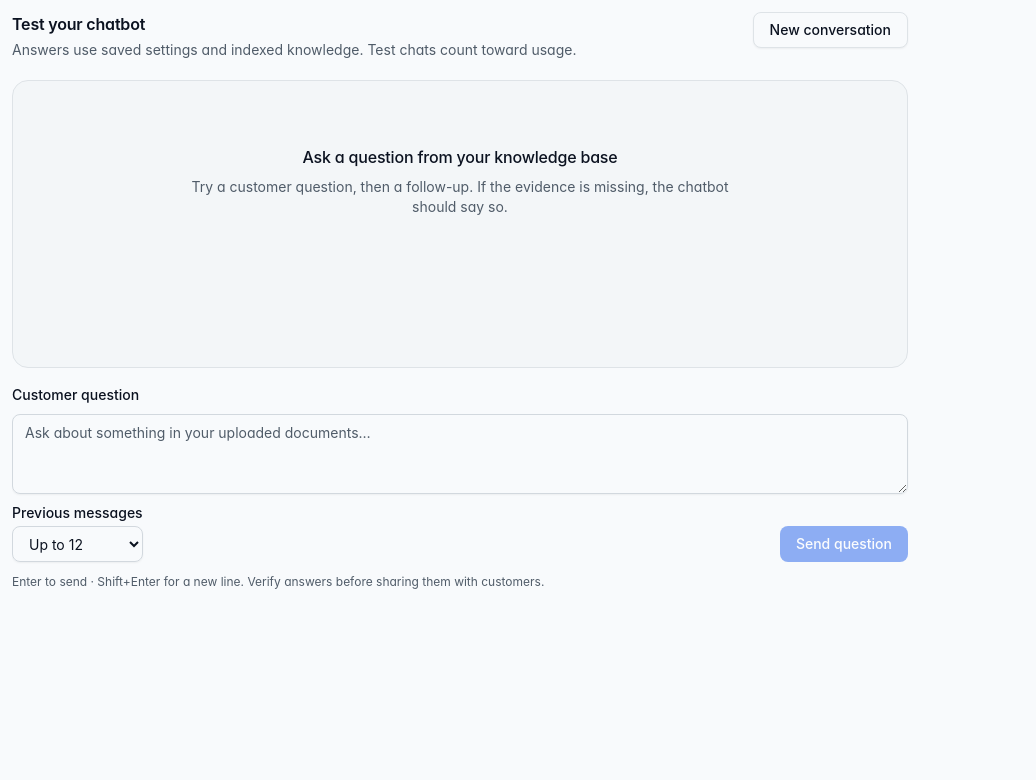
Test: sends a question, displays citations and usage, and saves feedback
In the text box labelled "Customer question": (460, 454) [12,414,908,494], type "Returns policy?"
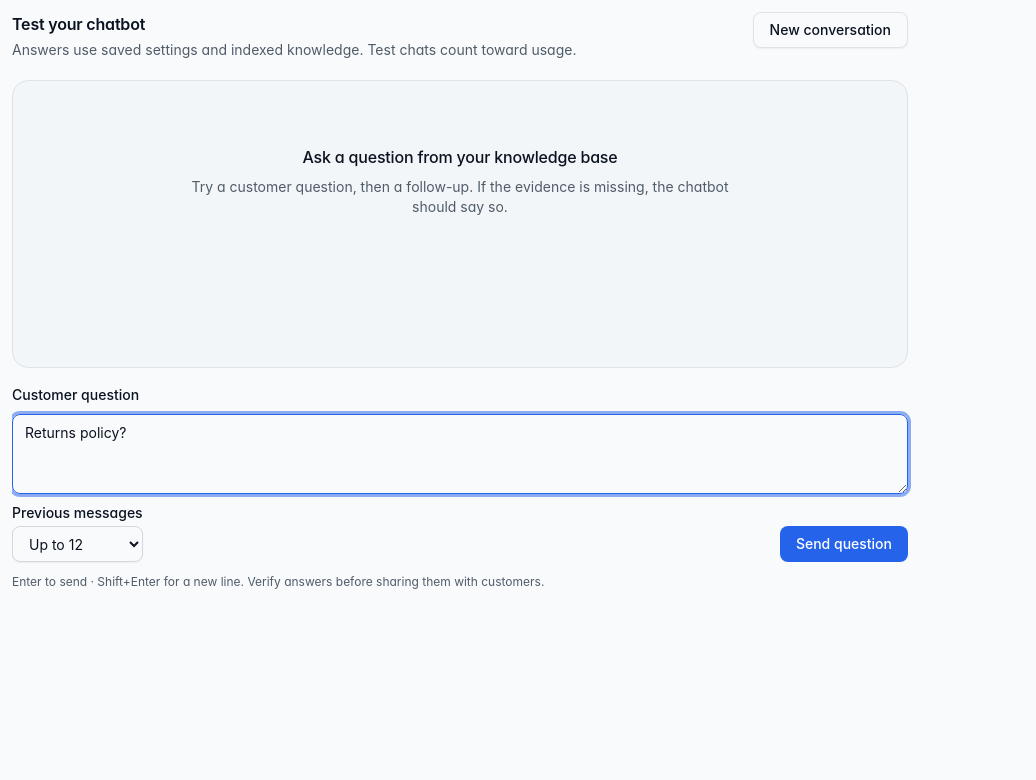
Click the button "Send question": (844, 544) [780,526,908,562]
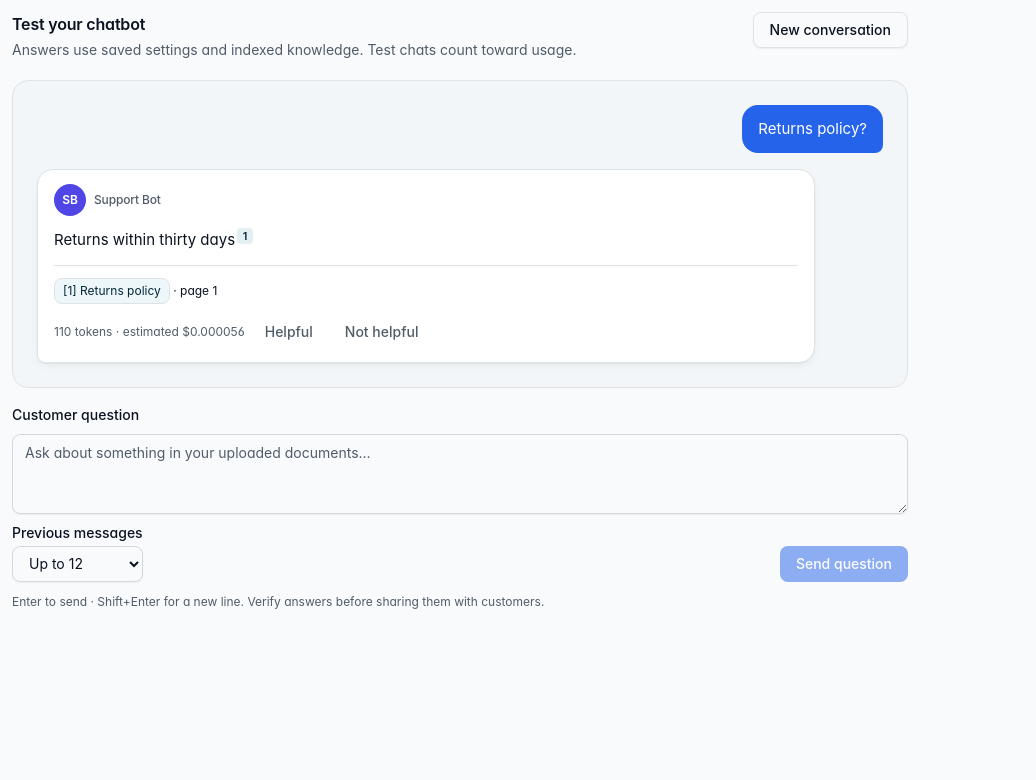
Check: the text "Returns within thirty days 1" is shown, box [54,228,253,249]
Check: the text "110 tokens · estimated $0.000056" is shown, box [54,324,245,340]
Click the button with aria-label "Mark answer helpful": (289, 332) [253,316,325,348]
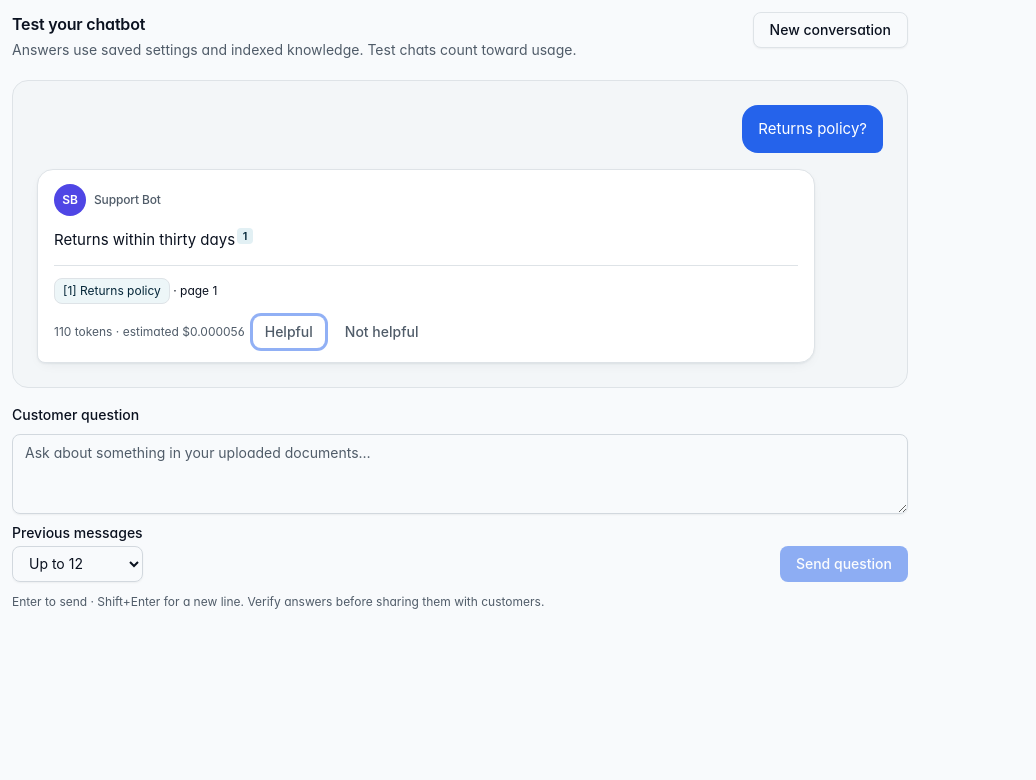
Click the button "New conversation": (830, 30) [752,12,908,48]
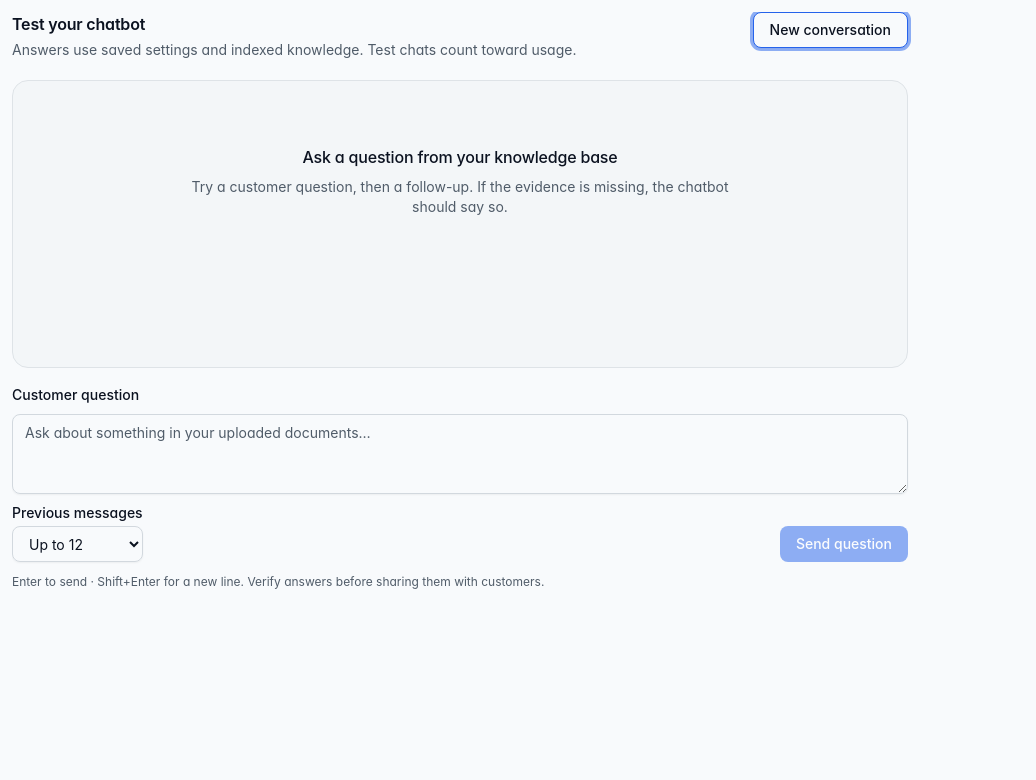
Check: the heading "Ask a question from your knowledge base" is shown, box [302,145,618,169]
